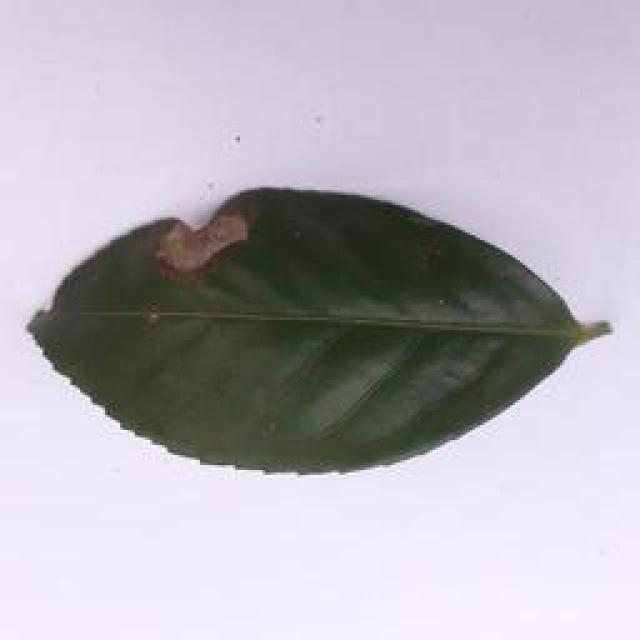Gray Blight: (22, 178, 640, 488)
